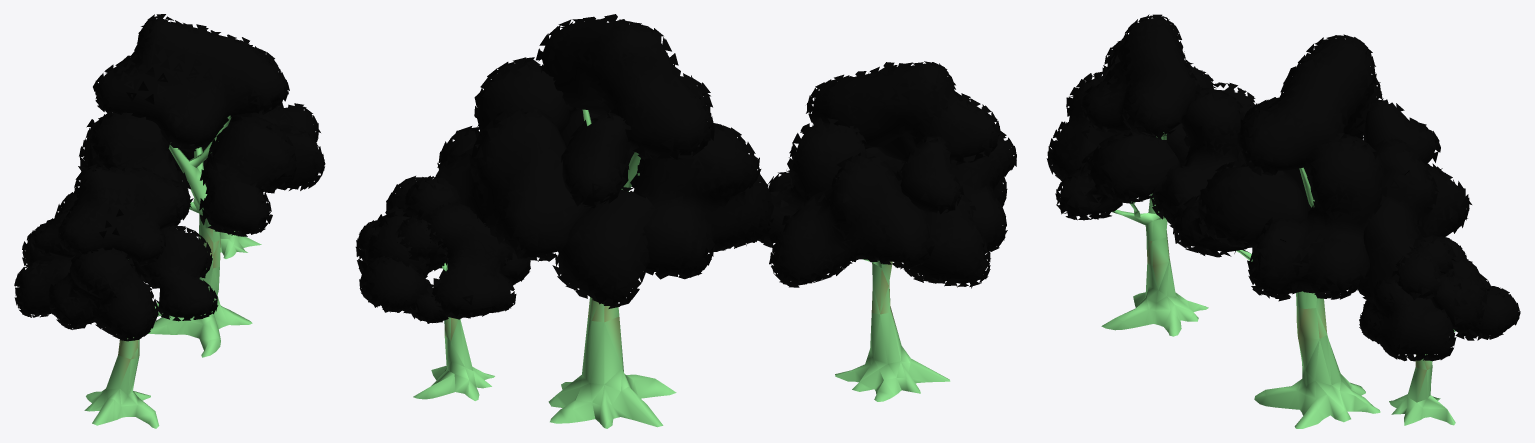
The model's file is SM_ENV_LKNVLD_TreeSet_K_Lod1.gltf.
The picture shows the model from 3 angles, left to right: view 1: azimuth 30°, elevation 25°; view 2: azimuth 150°, elevation 25°; view 3: azimuth 270°, elevation 25°; orthographic projection. The views are drawn at different scales.
Visible parts, largest first — view 1: SM_ENV_LKNVLD_TreeSet_K_Lod1; view 2: SM_ENV_LKNVLD_TreeSet_K_Lod1; view 3: SM_ENV_LKNVLD_TreeSet_K_Lod1.
Boxes of the visible parts, x1,y1,x2,y2 form: SM_ENV_LKNVLD_TreeSet_K_Lod1: (14,14,325,428); SM_ENV_LKNVLD_TreeSet_K_Lod1: (355,14,1016,428); SM_ENV_LKNVLD_TreeSet_K_Lod1: (1046,14,1520,428).
Bounding box in the file's own units: 22.05 × 17.2 × 20.58.
